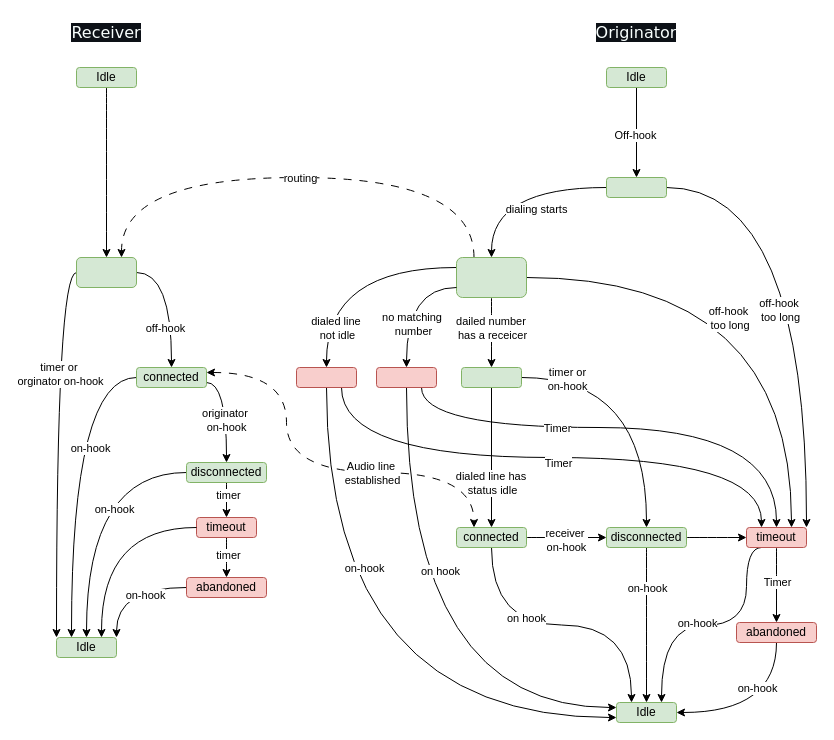
This 834x740 diagram has some shape labels left out. The box of each missing label's shape, as (x1, y1, x2, y2) in pixels:
busy: (296, 366, 356, 388)
dialing puls or tone: (456, 256, 526, 298)
fail: (376, 366, 436, 388)
incoming call: (76, 256, 136, 288)
ready: (606, 176, 666, 198)
ringing: (460, 366, 522, 388)
